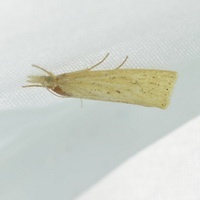insect: (23, 53, 176, 108)
